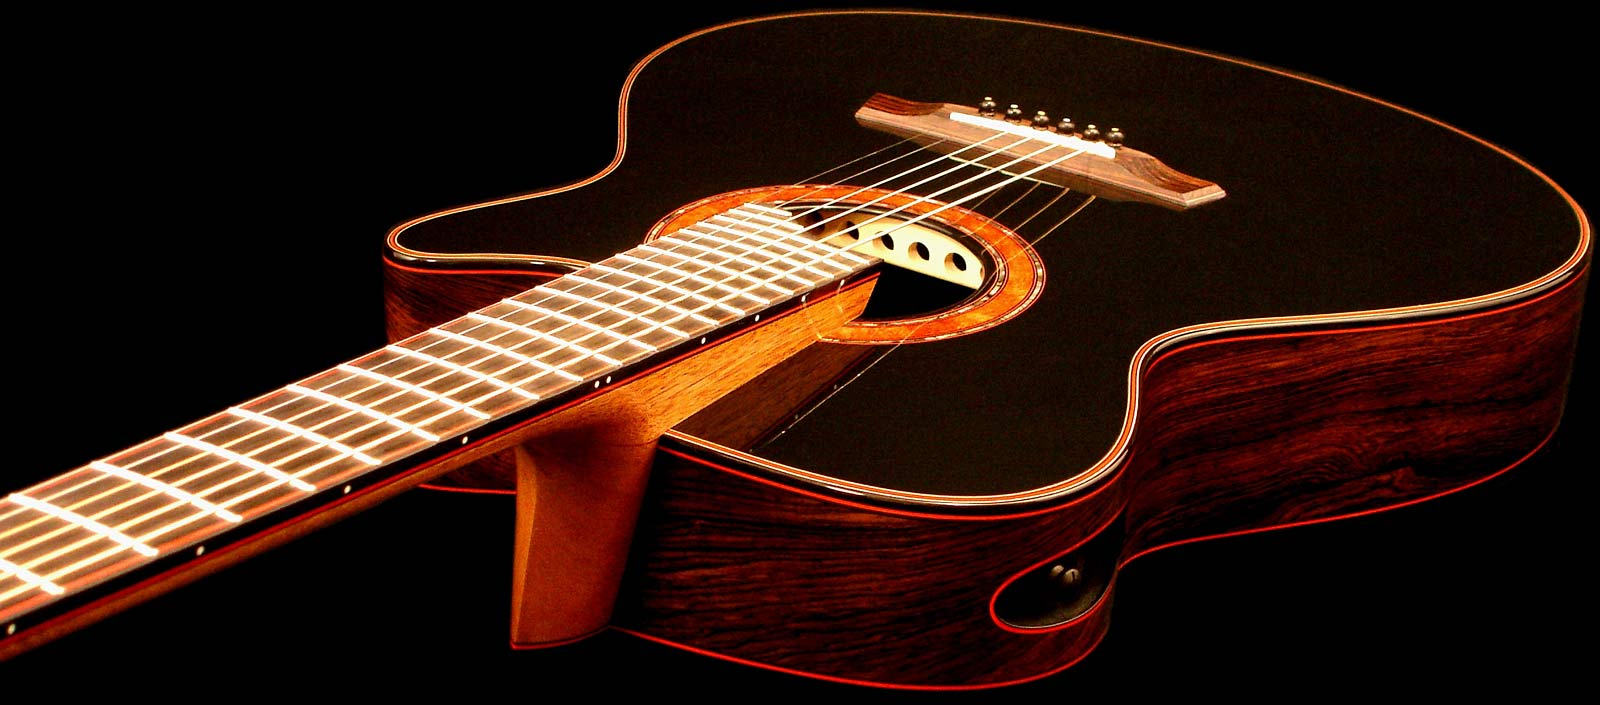guitar: (1, 1, 1600, 705)
